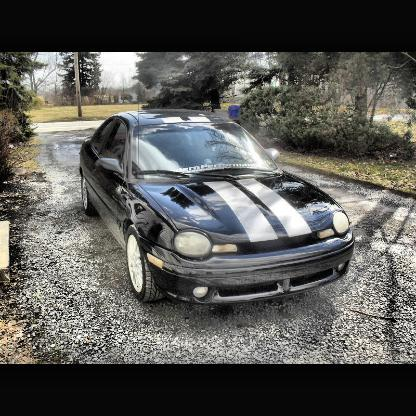Plymouth Neon Coupe 1999: (78, 107, 358, 311)
